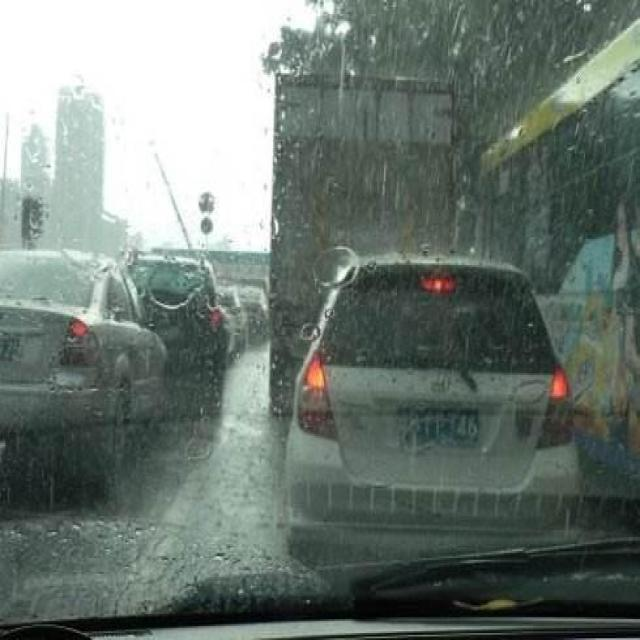car: (290, 249, 584, 562), (0, 248, 170, 476), (118, 242, 232, 413)
